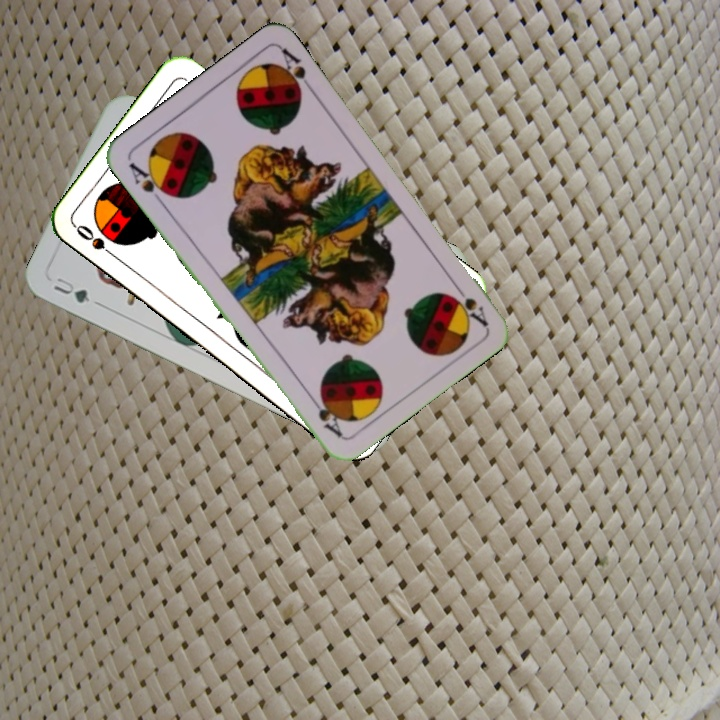GU: (49, 273, 102, 308)
SA: (124, 158, 174, 208), (447, 278, 491, 329)
SO: (71, 220, 122, 263)
